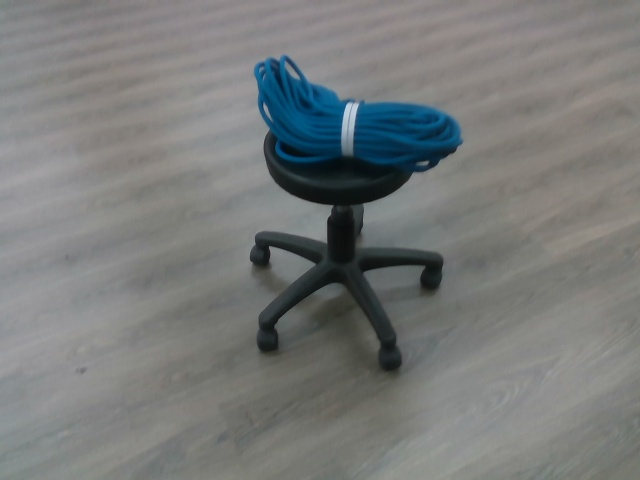rope: (248, 49, 466, 173)
